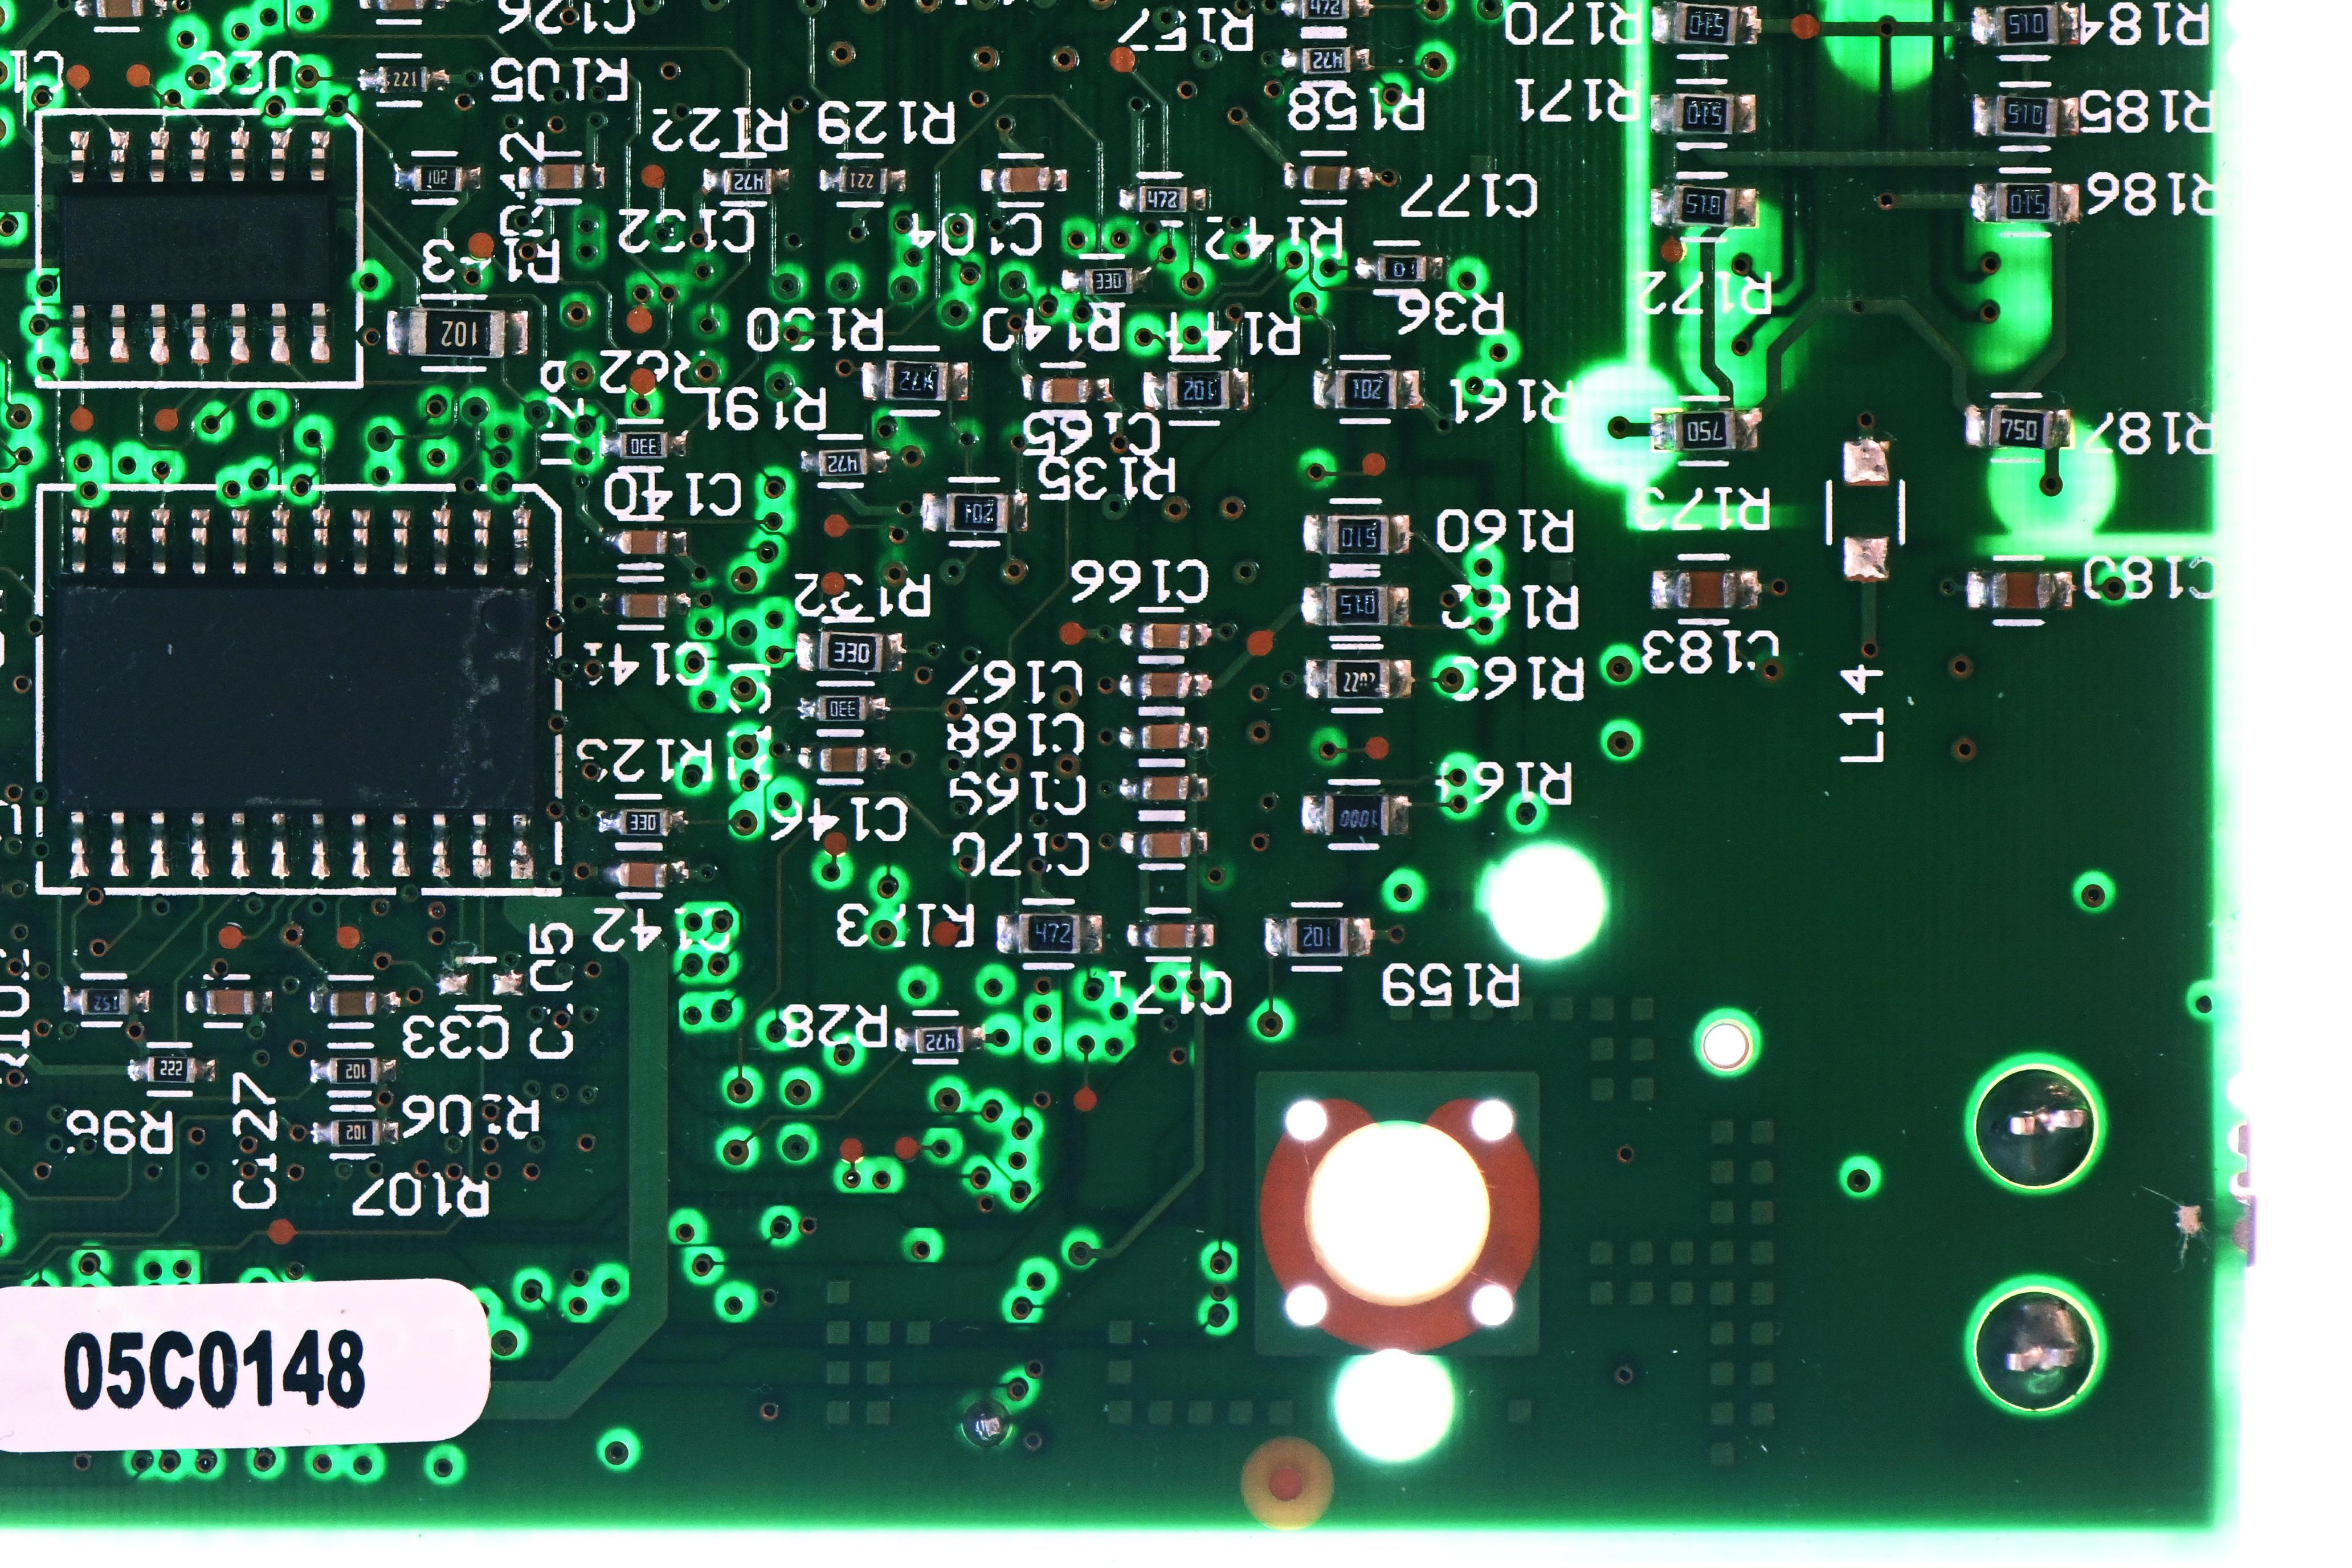ICs: (37, 565, 560, 819), (51, 166, 345, 315)
capacitors: (1986, 565, 2058, 616), (1673, 564, 1743, 614), (1300, 157, 1354, 198), (530, 157, 588, 194), (201, 982, 257, 1019), (1139, 826, 1195, 863), (998, 161, 1054, 198), (326, 985, 380, 1022), (614, 854, 669, 891), (1137, 768, 1192, 805), (1139, 718, 1193, 754), (1137, 667, 1192, 703), (1139, 616, 1193, 653), (618, 586, 672, 623), (1038, 371, 1092, 408), (1143, 917, 1199, 952), (817, 740, 872, 775), (616, 523, 670, 558), (91, 0, 149, 24), (373, 0, 431, 17)
resistors: (404, 304, 509, 362), (1320, 789, 1395, 844), (1984, 401, 2060, 453), (1670, 404, 1745, 457), (1321, 509, 1393, 564), (1321, 576, 1393, 630), (1321, 653, 1396, 703), (942, 487, 1015, 537), (1330, 364, 1403, 415), (1164, 366, 1237, 416), (1015, 906, 1085, 959), (1283, 910, 1354, 961), (816, 625, 887, 676), (882, 353, 954, 404), (1668, 0, 1743, 47), (1990, 0, 2065, 47), (1990, 177, 2063, 224), (1666, 180, 1739, 228), (1666, 88, 1739, 135), (1990, 91, 2063, 138), (833, 159, 893, 203), (408, 159, 467, 200), (142, 1048, 201, 1088), (1298, 40, 1358, 81), (719, 161, 777, 201), (1136, 180, 1193, 220), (75, 982, 135, 1020), (375, 59, 432, 98), (814, 443, 872, 481), (616, 803, 674, 842), (1372, 250, 1431, 287), (326, 1052, 382, 1090), (327, 1113, 383, 1152), (912, 1020, 968, 1059), (1080, 262, 1137, 299), (614, 425, 670, 462), (814, 689, 870, 726), (1297, 0, 1356, 26)
